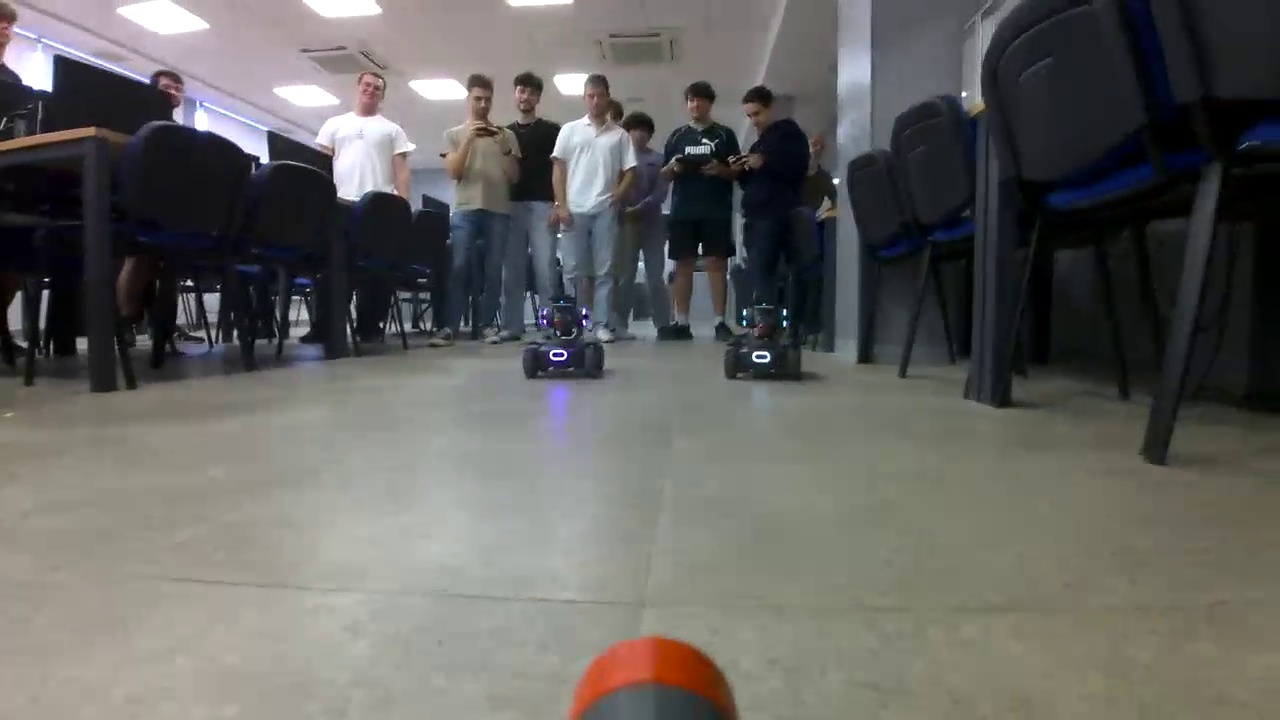robot: (521, 294, 604, 381), (722, 303, 799, 381)
